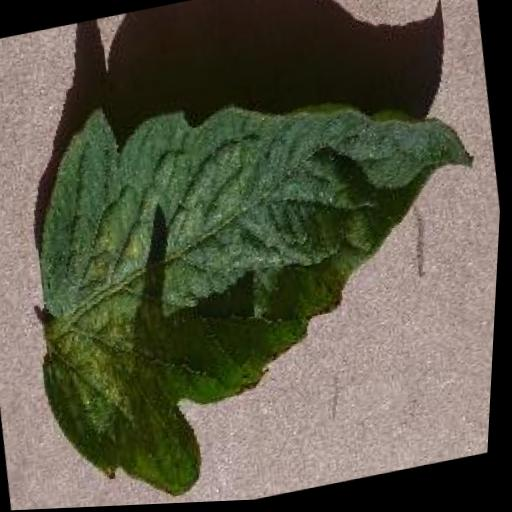Spider Mites: (0, 35, 510, 511)
